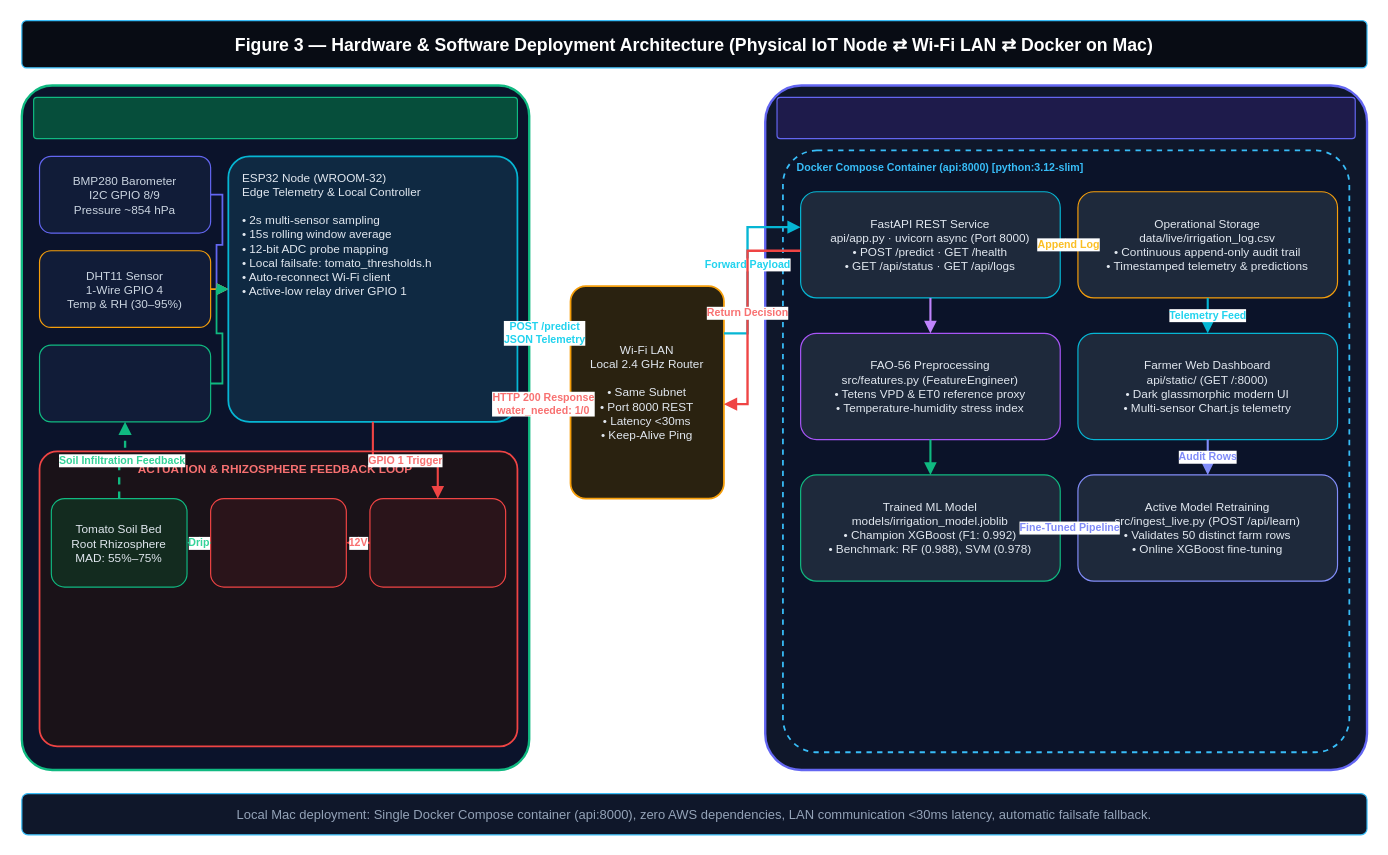
The diagram is 1388 pixels wide and 855 high, and some of its shapes have lost their labels. The shapes that lost their labels are listed below. From the top down, each one's centre as x and y in pixels, then its label:
At point 274,117: "TOMATO GREENHOUSE / IOT EDGE LAYER (PHYSICAL FARM ENVIRONMENT)".
At point 1065,117: "MACBOOK PRO M4 PRO — LOCAL COMPUTE / DOCKER DEPLOYMENT".
At point 124,383: "Capacitive Soil Probe Analog AO GPIO 20 Moisture (0–100%)".
At point 277,542: "Submersible Pump 12V/5V DC Motor Drip Manifold".
At point 437,542: "5V Relay Module GPIO 1 (Active-Low) Optical Isolation".
